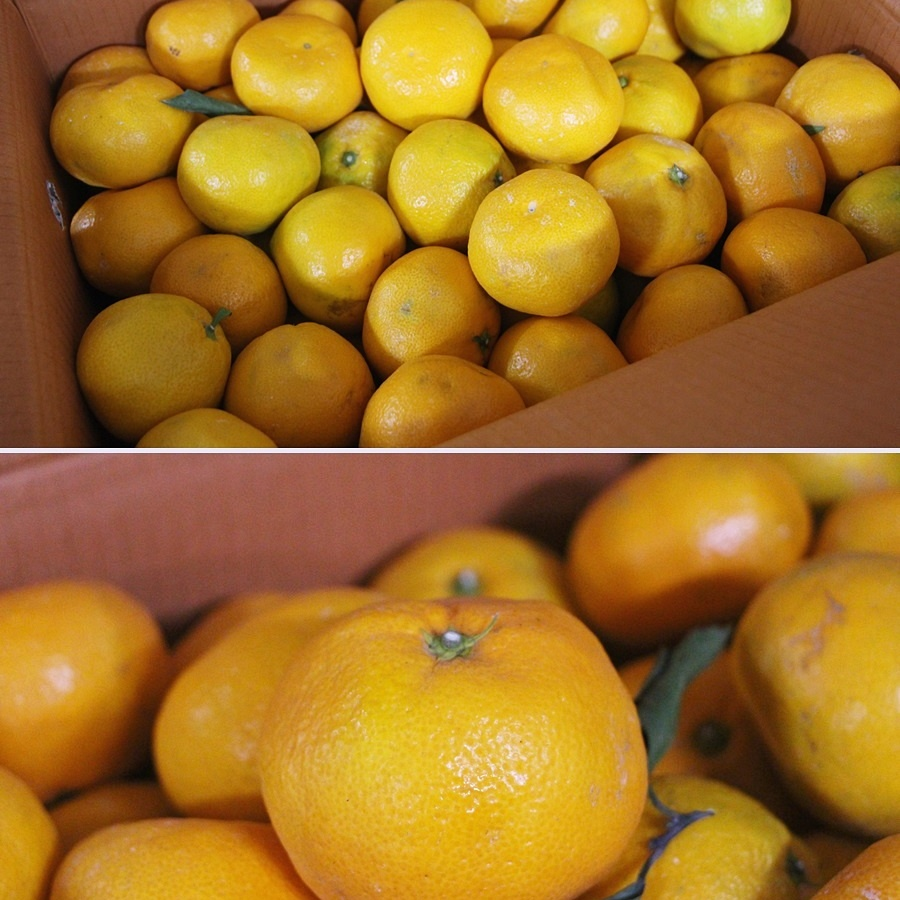mandarin: (256, 606, 648, 900), (148, 583, 378, 833), (568, 457, 813, 646), (740, 556, 900, 837), (1, 579, 167, 803), (594, 779, 826, 900), (597, 642, 775, 792), (464, 167, 621, 314), (585, 128, 727, 285), (43, 818, 321, 898), (72, 290, 232, 422), (271, 182, 407, 325), (228, 324, 367, 462), (363, 242, 503, 372), (481, 36, 625, 162), (183, 113, 321, 244), (363, 528, 569, 615), (359, 1, 491, 133), (390, 116, 517, 250), (696, 103, 827, 226), (358, 351, 522, 449), (47, 76, 203, 179), (723, 208, 871, 315), (774, 53, 900, 173), (228, 18, 365, 122), (157, 236, 291, 335), (491, 308, 631, 402), (616, 265, 747, 363), (69, 184, 199, 282), (143, 1, 256, 92), (608, 53, 698, 145), (132, 404, 287, 449), (829, 165, 900, 263), (677, 1, 793, 57), (318, 114, 397, 193), (691, 54, 800, 108)
